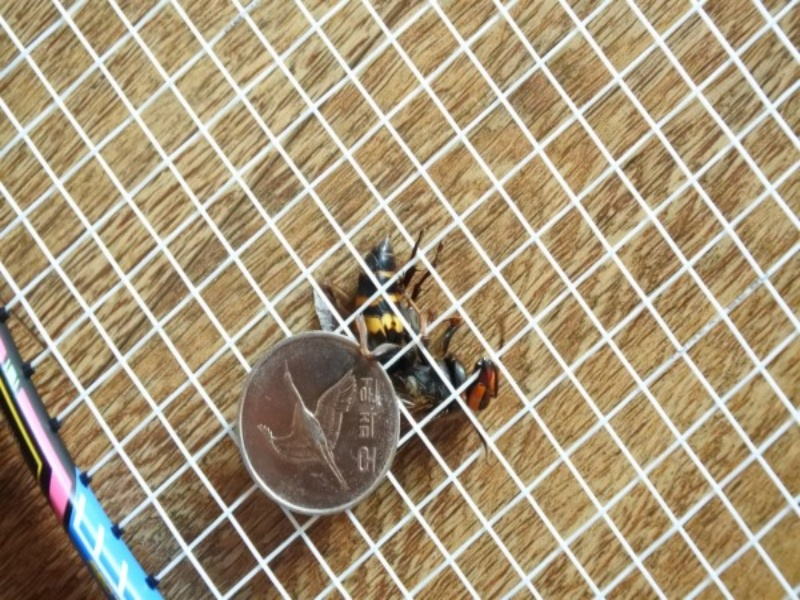asian_giant_hornet: (339, 232, 503, 418)
